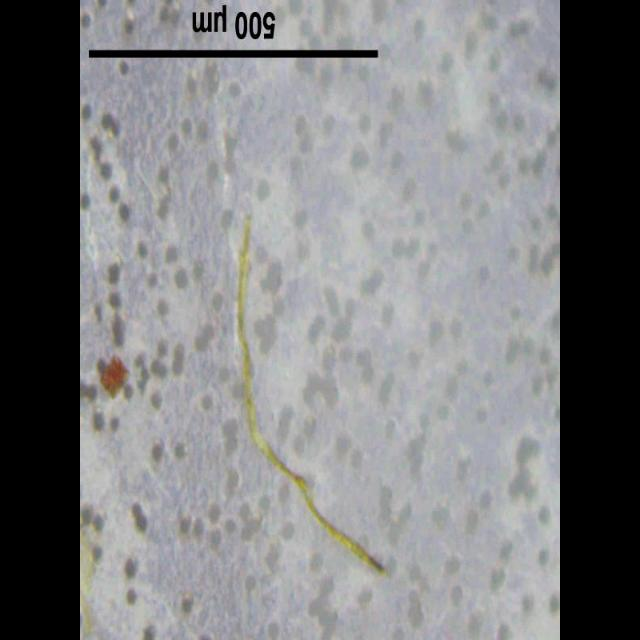Fibre: (234, 216, 390, 580)
